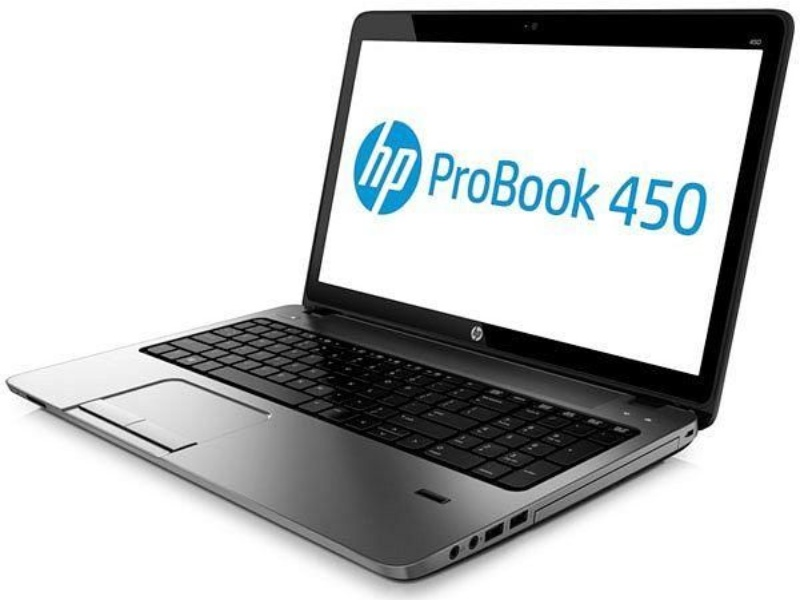hp: (356, 122, 421, 214), (468, 325, 485, 341)
